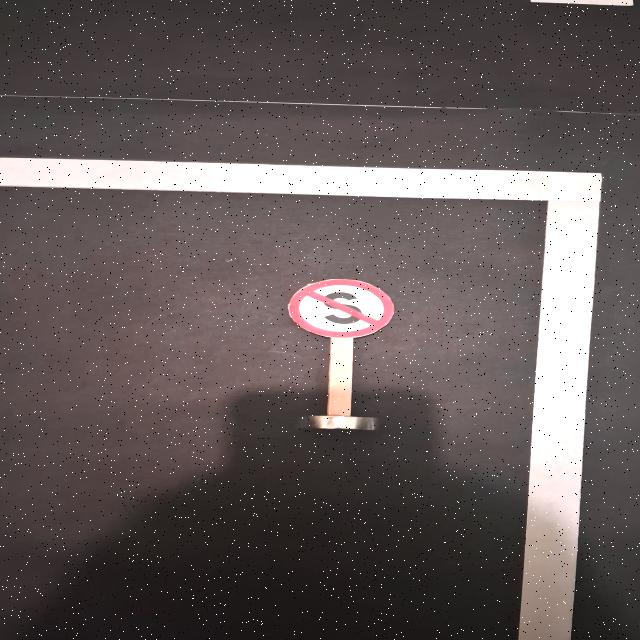Rambu Berhenti: (288, 279, 393, 338)
